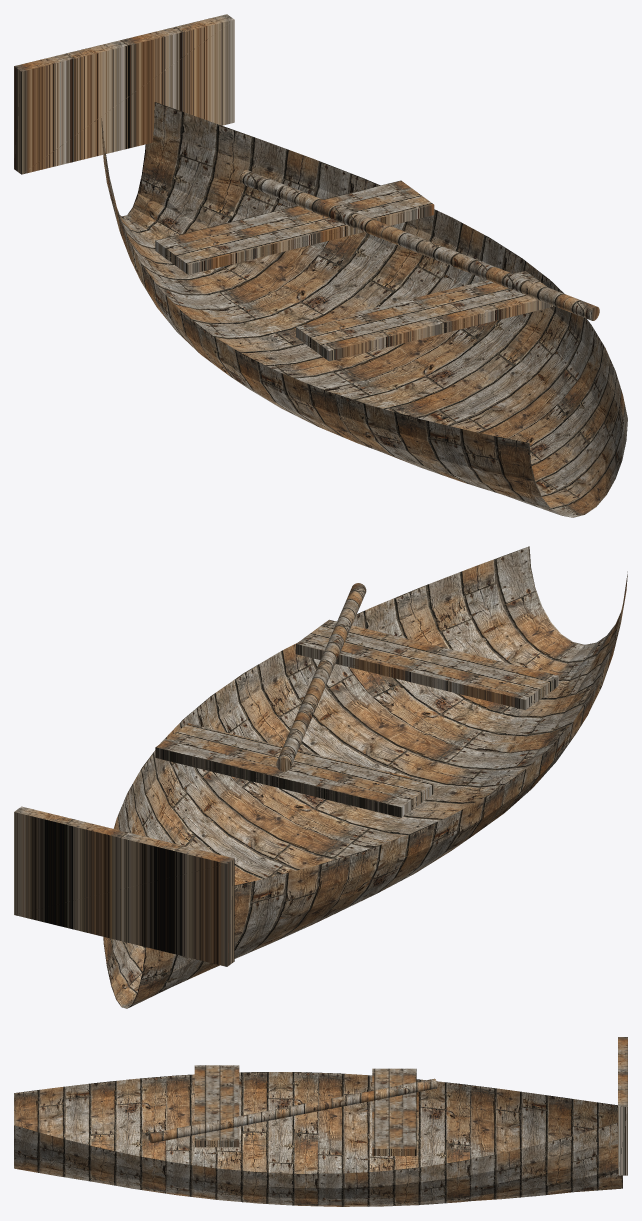
The model's file is survivor_boat.glb.
3 views of the same model, one above another, from view 1: azimuth 30°, elevation 25°; view 2: azimuth 150°, elevation 25°; view 3: azimuth 270°, elevation 25° (orthographic). The views are drawn at different scales.
Visible parts, largest first — view 1: geometry_0, geometry_3, geometry_1, geometry_2, geometry_4; view 2: geometry_0, geometry_3, geometry_1, geometry_2, geometry_4; view 3: geometry_0, geometry_1, geometry_2, geometry_4, geometry_3.
Part boxes in pixels (x1,y1,x2,y2): geometry_0: (101,102,627,517); geometry_3: (14,14,234,174); geometry_1: (155,180,434,274); geometry_2: (296,271,554,361); geometry_4: (239,170,599,320); geometry_0: (103,546,627,1008); geometry_3: (14,806,234,966); geometry_1: (155,723,434,817); geometry_2: (296,619,558,709); geometry_4: (276,583,366,771); geometry_0: (14,1072,622,1206); geometry_1: (372,1068,416,1155); geometry_2: (194,1065,239,1147); geometry_4: (148,1078,437,1143); geometry_3: (618,1037,627,1175).
Bounding box in the file's own units: 1.9 × 1.05 × 4.84.
1 material, 1 textured.
